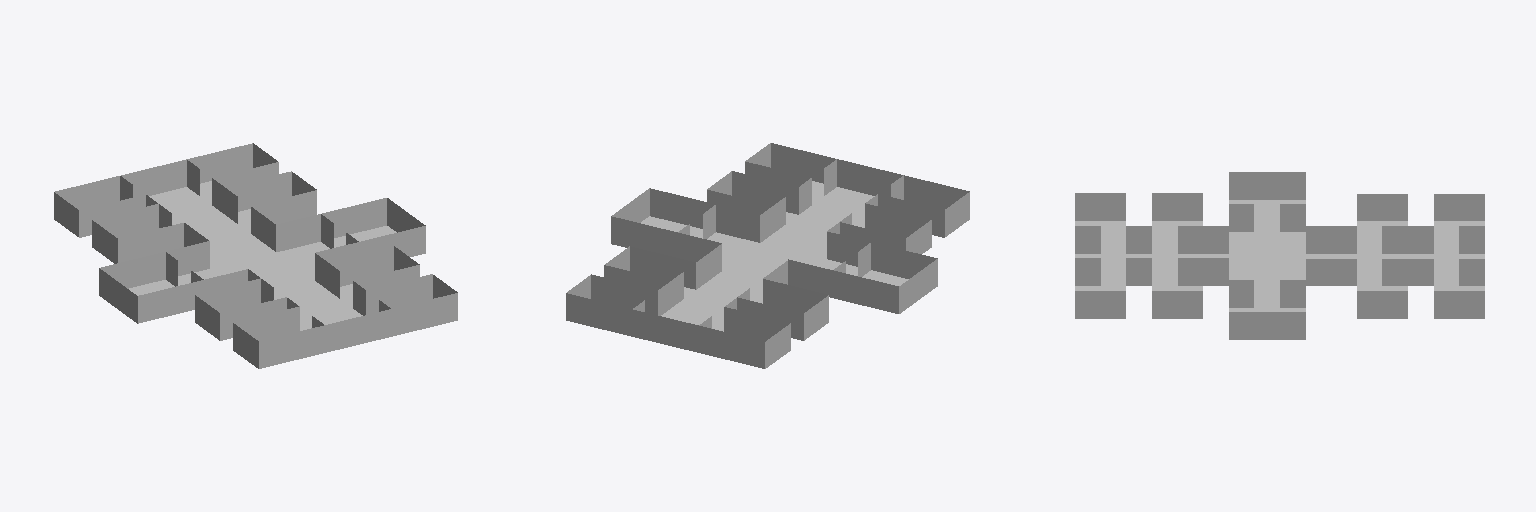
Rendered from 3dimgur_noroof.obj.
The picture shows the model from 3 angles: view 1: azimuth 30°, elevation 25°; view 2: azimuth 150°, elevation 25°; view 3: azimuth 270°, elevation 25°; orthographic projection.
Visible parts, largest first — view 1: Plane; view 2: Plane; view 3: Plane.
Part boxes in pixels (left/top/right/bottom): Plane: left=54, top=143, right=457, bottom=368; Plane: left=566, top=143, right=969, bottom=368; Plane: left=1075, top=172, right=1484, bottom=339.
Size of the model in its own units: 12.77 by 1.18 by 15.72.